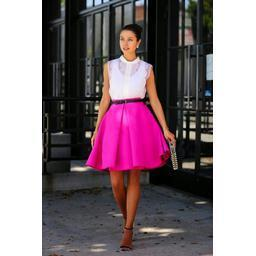shirt: (107, 55, 152, 102)
skirt: (86, 96, 170, 172)
